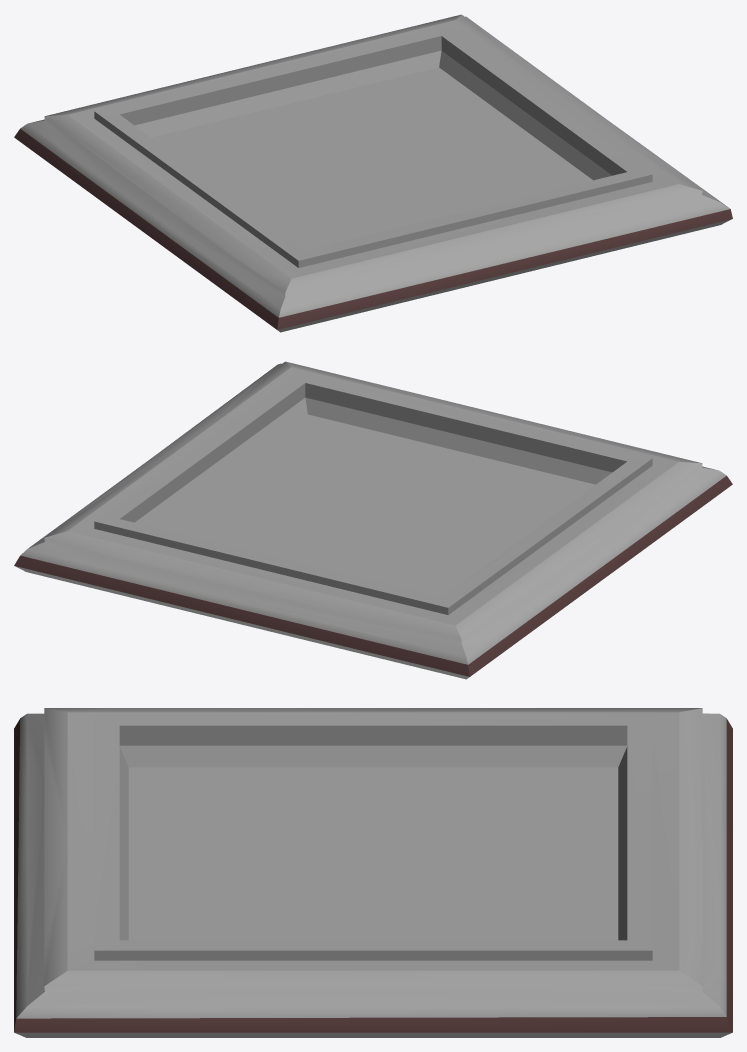
Rendered from Chass.fbx.
The picture shows the model from 3 angles, top to bottom: view 1: azimuth 30°, elevation 25°; view 2: azimuth 150°, elevation 25°; view 3: azimuth 270°, elevation 25°; orthographic projection. The views are drawn at different scales.
Parts seen in each view (by area): view 1: chass; view 2: chass; view 3: chass.
Part boxes in pixels (x1=…): chass: x1=14, y1=14, x2=732, y2=332; chass: x1=14, y1=361, x2=732, y2=679; chass: x1=14, y1=708, x2=732, y2=1037.
Size of the model in its own units: 11.74 by 1.06 by 11.74.
